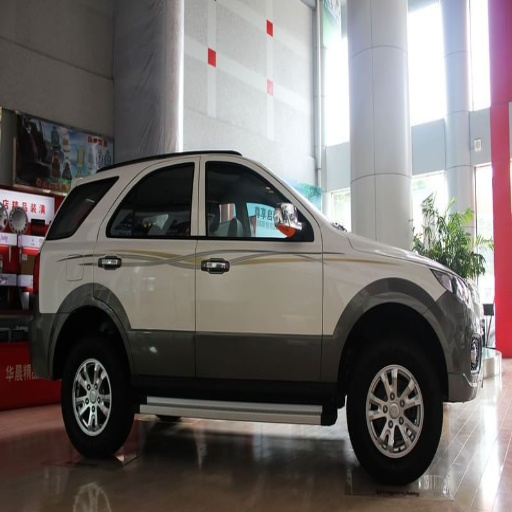back_right_door: (96, 155, 200, 384)
front_right_door: (197, 155, 320, 378)
